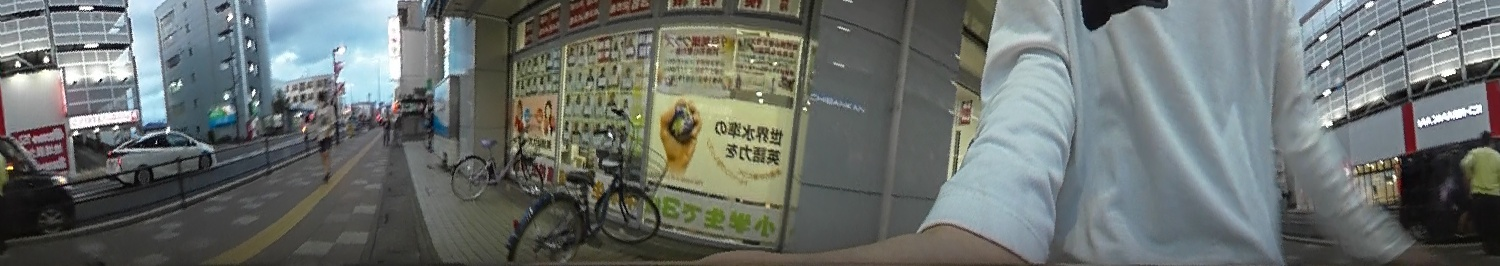difficult_person: (378, 103, 393, 144)
person: (1458, 127, 1499, 264), (309, 91, 339, 182)
